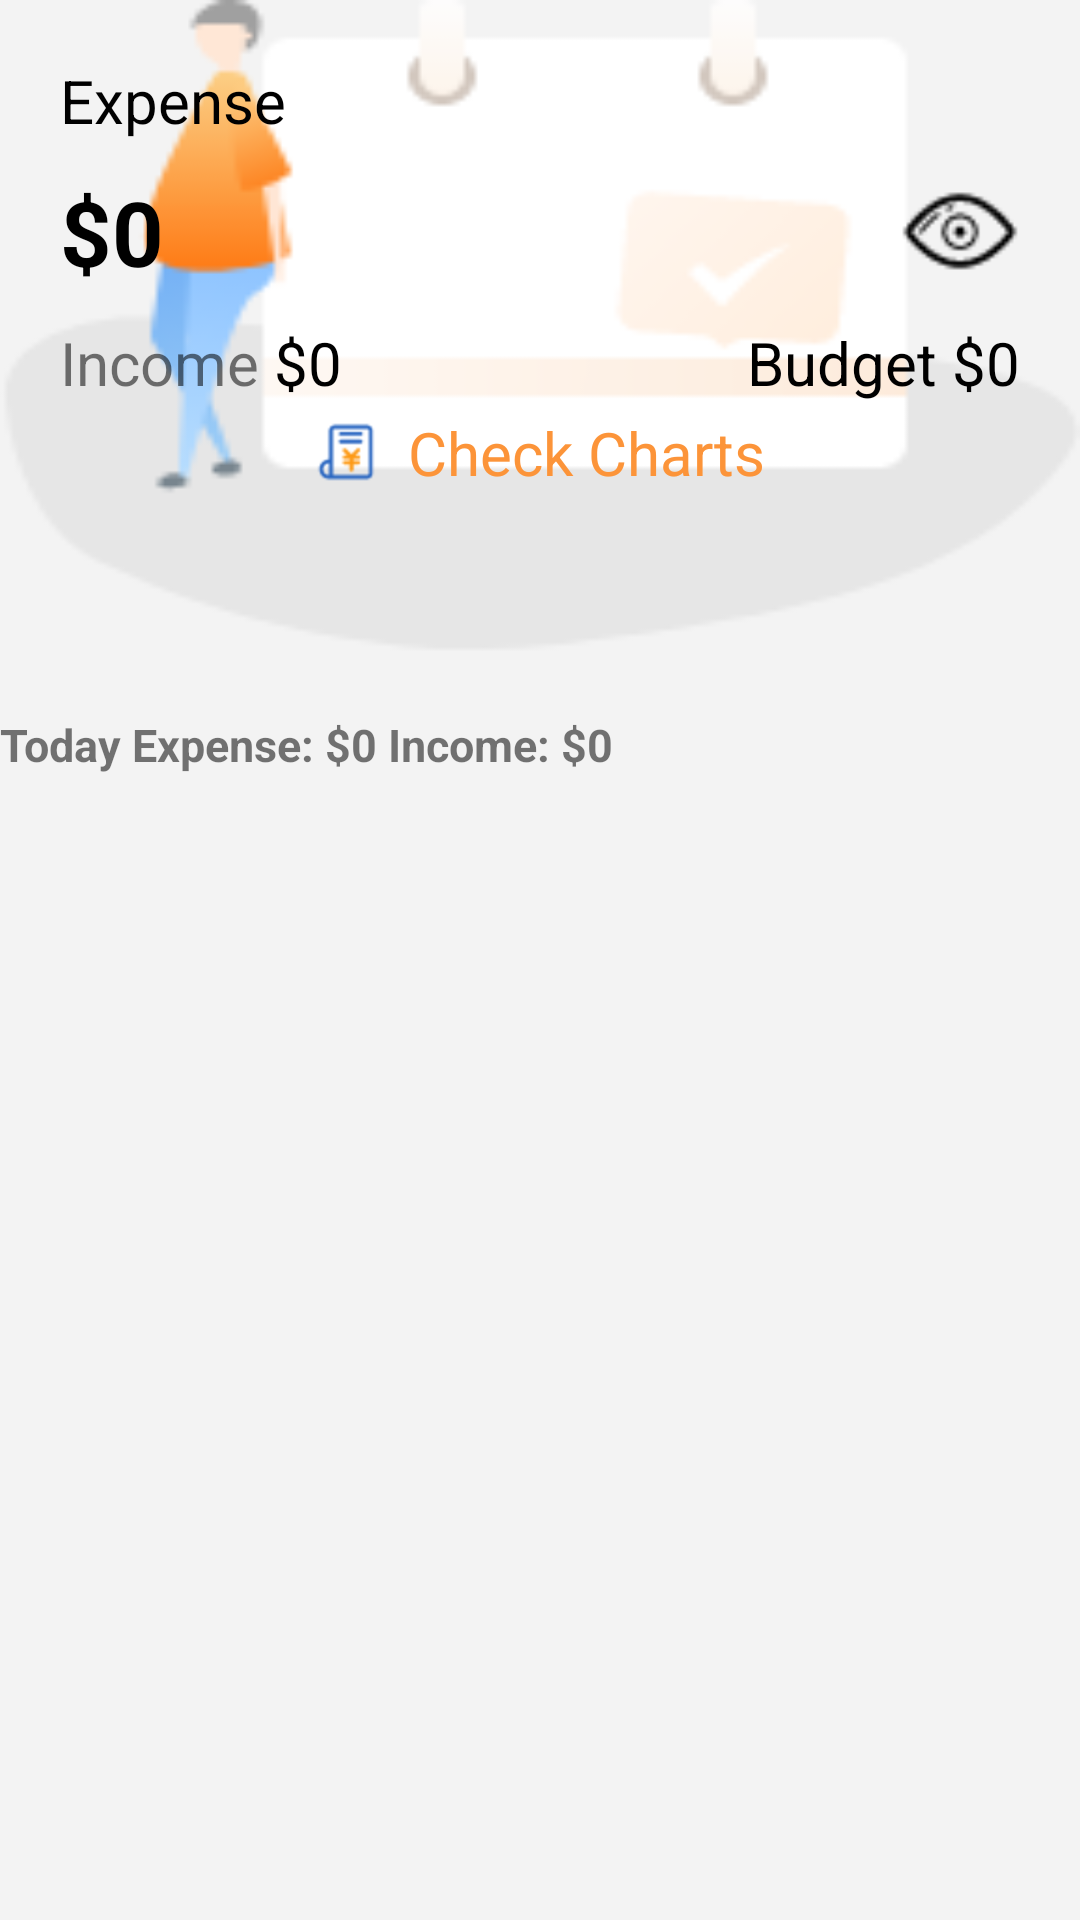

Point at icon controls on the screen. Image size 1080 x 1920, points as (x=x, y=y).
eye: (x=960, y=231)
